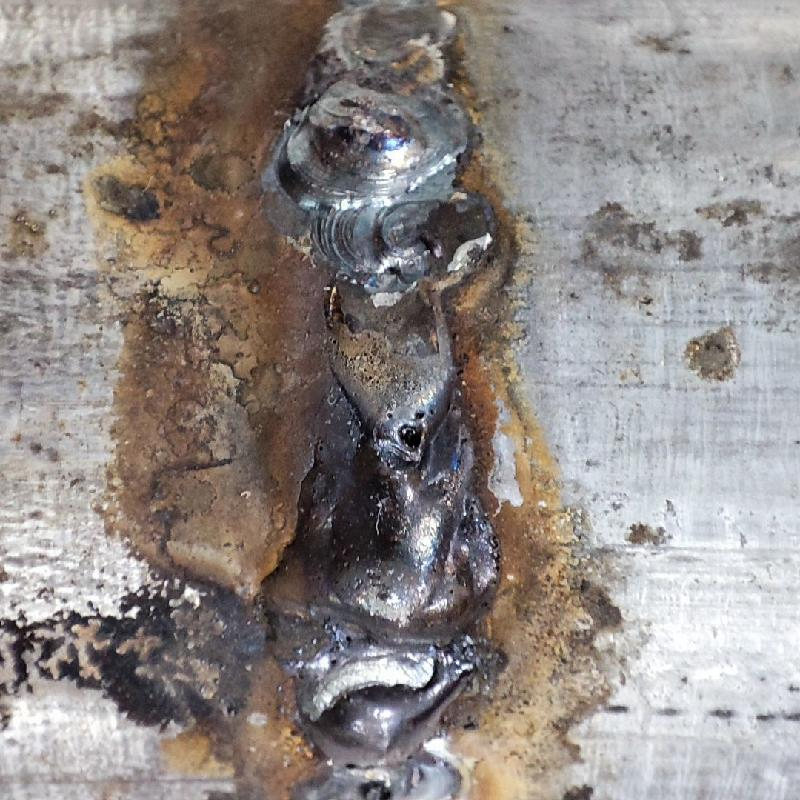Not_fully_soldered: (308, 204, 473, 460), (304, 4, 463, 98)
Surface_pores: (376, 404, 448, 454), (329, 752, 368, 781)
Weld: (276, 456, 492, 777)
